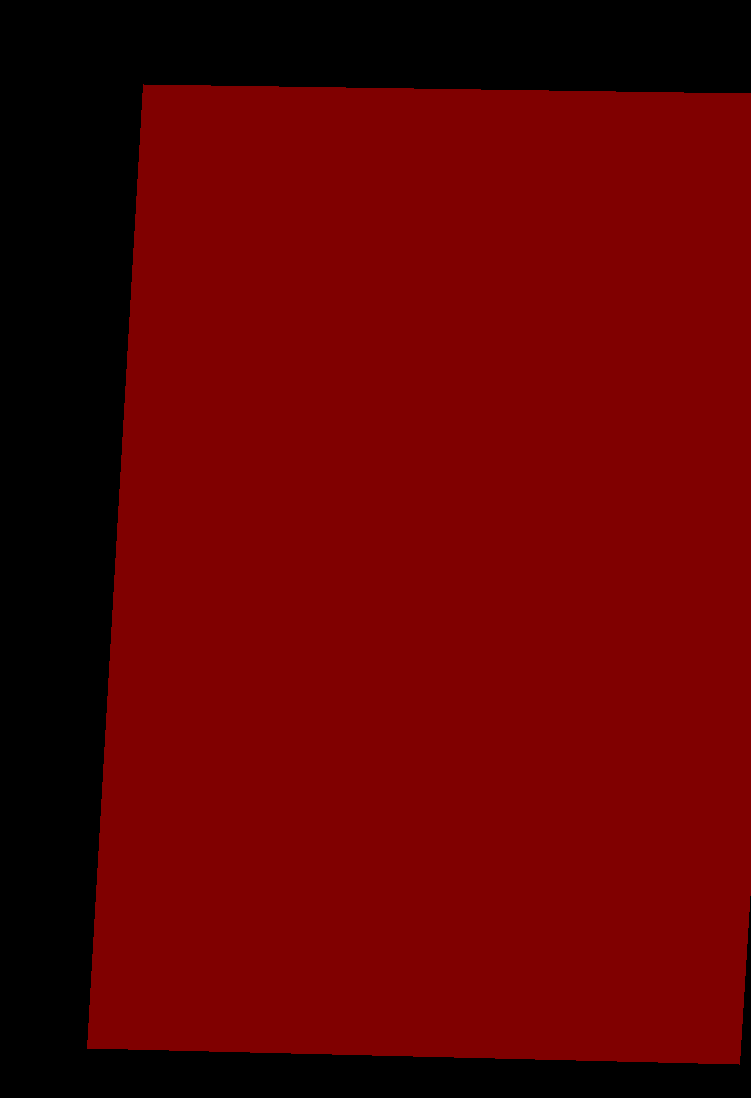sign: (87, 84, 750, 1064)
